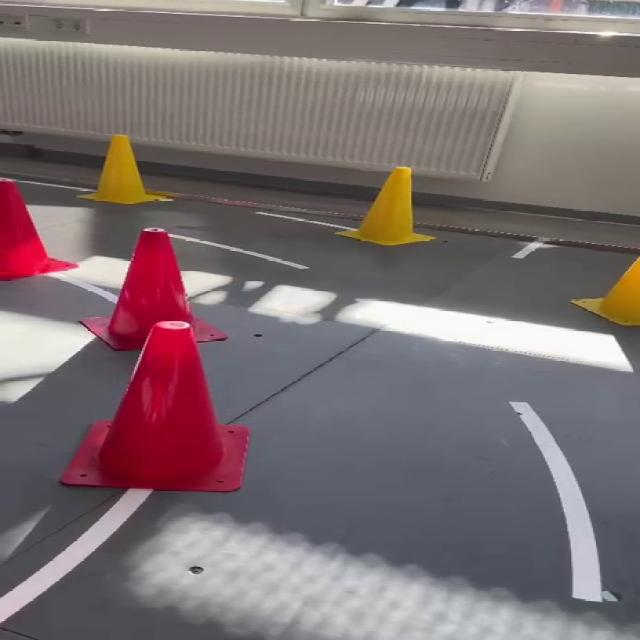Cone-red: (61, 322, 248, 492), (80, 228, 226, 350), (0, 179, 76, 279)
Cones-yellow: (337, 167, 433, 245), (80, 135, 172, 204), (570, 256, 639, 326)
